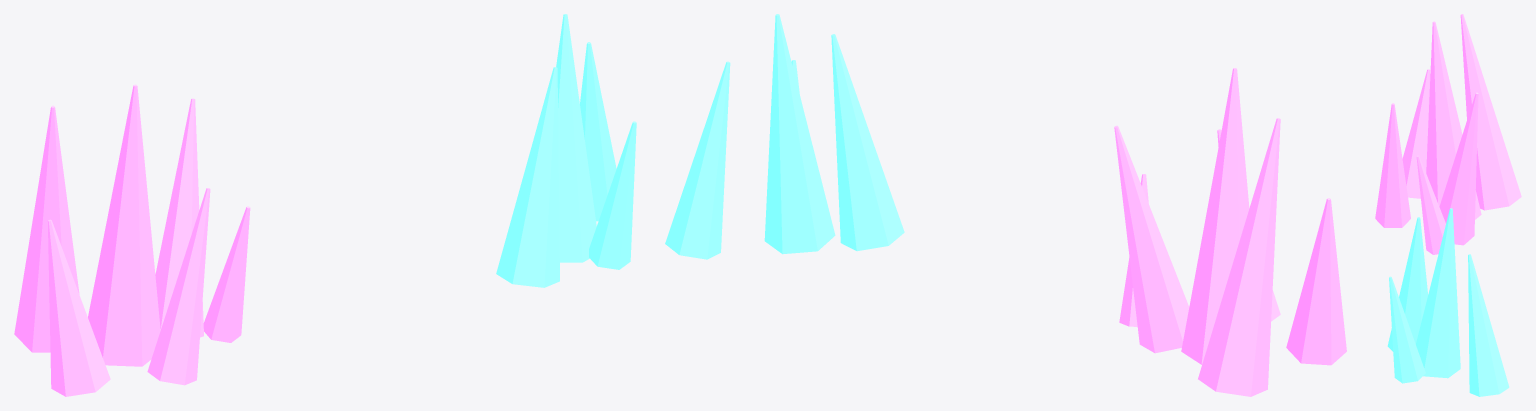
File: crystal_cluster_unified.glb
3 views of the same model, side by side, from view 1: azimuth 30°, elevation 25°; view 2: azimuth 150°, elevation 25°; view 3: azimuth 270°, elevation 25° (orthographic). The views are drawn at different scales.
Parts seen in each view (by area): view 1: CrystalCluster; view 2: CrystalCluster; view 3: CrystalCluster.
Part boxes in pixels (x1,y1,x2,y2): CrystalCluster: (14, 14, 636, 396); CrystalCluster: (665, 14, 1346, 396); CrystalCluster: (1375, 14, 1521, 396).
Size of the model in its own units: 7.01 by 3.03 by 2.04.
